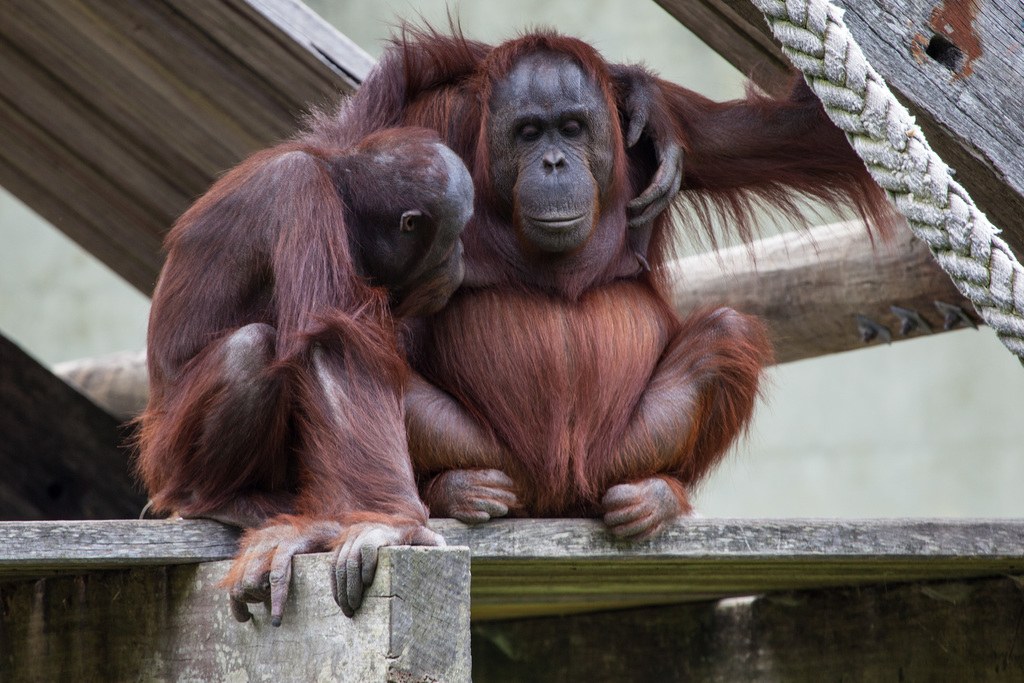face: (471, 63, 631, 248)
